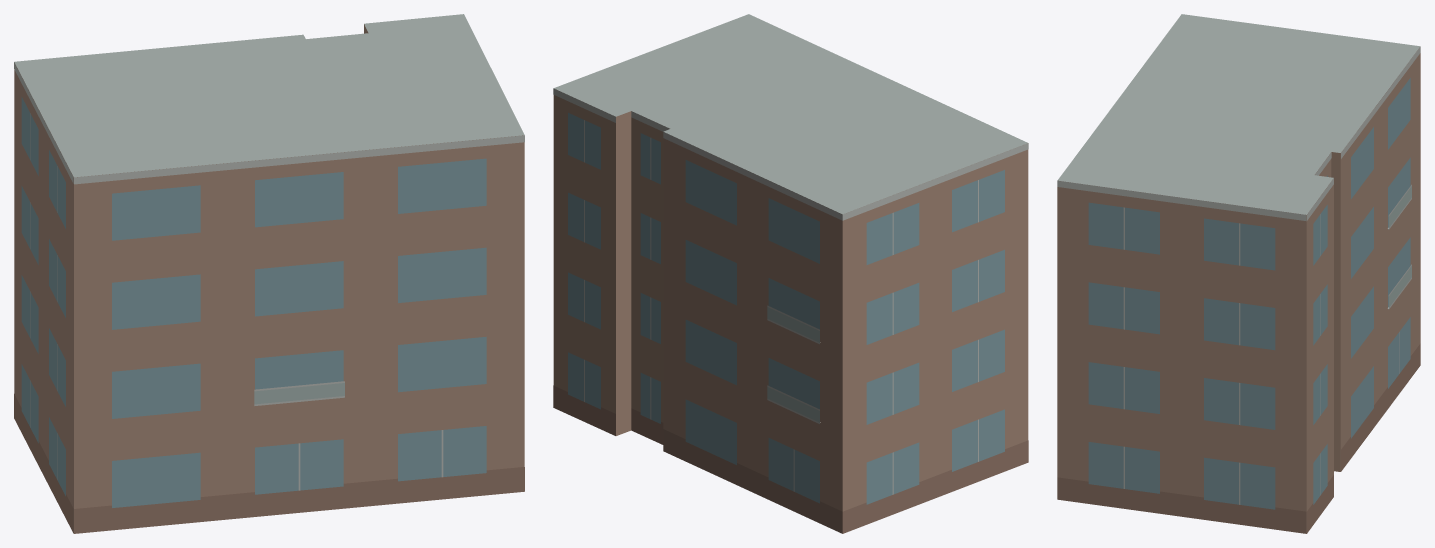
File: survey-upis-32531635.glb
The picture shows the model from 3 angles, left to right: view 1: azimuth 30°, elevation 25°; view 2: azimuth 150°, elevation 25°; view 3: azimuth 270°, elevation 25°; orthographic projection. The views are drawn at different scales.
Visible parts, largest first — view 1: survey-upis-32531635.tmp; view 2: survey-upis-32531635.tmp; view 3: survey-upis-32531635.tmp.
Part boxes in pixels (x1,y1,x2,y2): survey-upis-32531635.tmp: (14, 14, 524, 533); survey-upis-32531635.tmp: (553, 14, 1028, 533); survey-upis-32531635.tmp: (1057, 14, 1420, 533).
Bounding box in the file's own units: 16.62 × 12.3 × 12.71.
